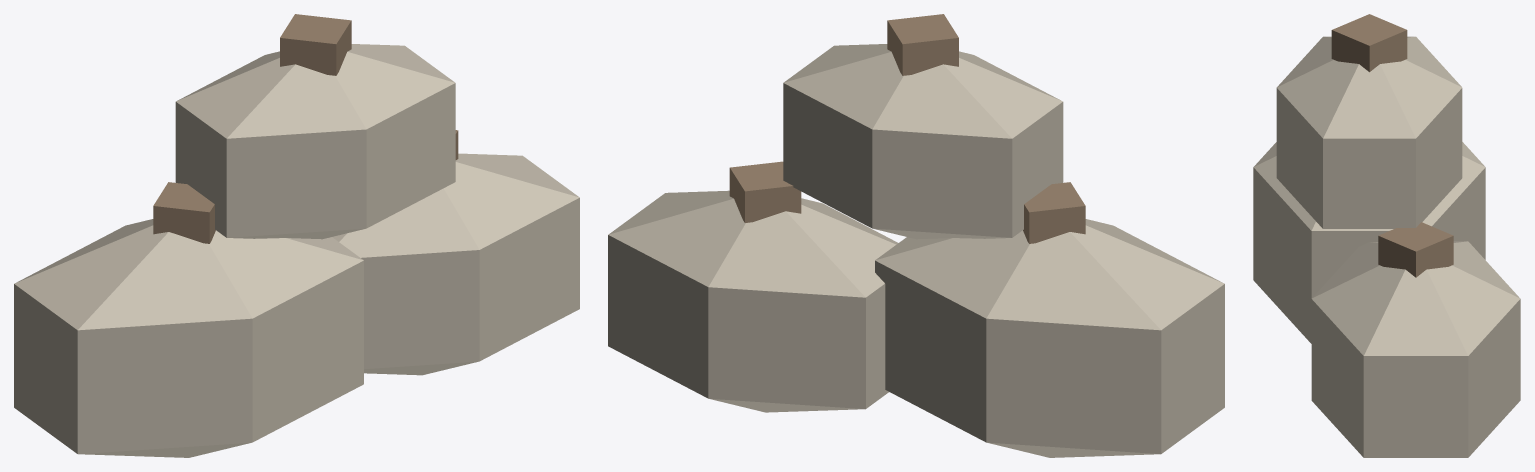
File: sack-pile.glb
3 renders of one model, left to right at view 1: azimuth 30°, elevation 25°; view 2: azimuth 150°, elevation 25°; view 3: azimuth 270°, elevation 25°, orthographic. The views are drawn at different scales.
Visible parts, largest first — view 1: sack_pile; view 2: sack_pile; view 3: sack_pile.
Part boxes in pixels (x1,y1,x2,y2): sack_pile: [14, 14, 579, 457]; sack_pile: [608, 14, 1224, 457]; sack_pile: [1253, 14, 1520, 457].
Bounding box in the file's own units: 0.3213 × 0.2302 × 0.1533.
